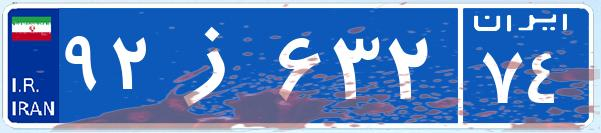2: (385, 28, 445, 110), (110, 28, 158, 105)
3: (330, 28, 385, 110)
4: (525, 38, 570, 115)
6: (273, 28, 330, 110)
7: (475, 38, 525, 113)
9: (57, 26, 110, 107)
ز: (158, 15, 273, 115)
